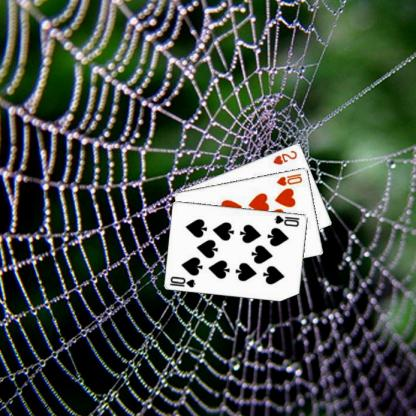10H: (274, 171, 303, 187)
10S: (272, 212, 301, 228), (168, 273, 196, 289)
2H: (270, 148, 298, 166)
